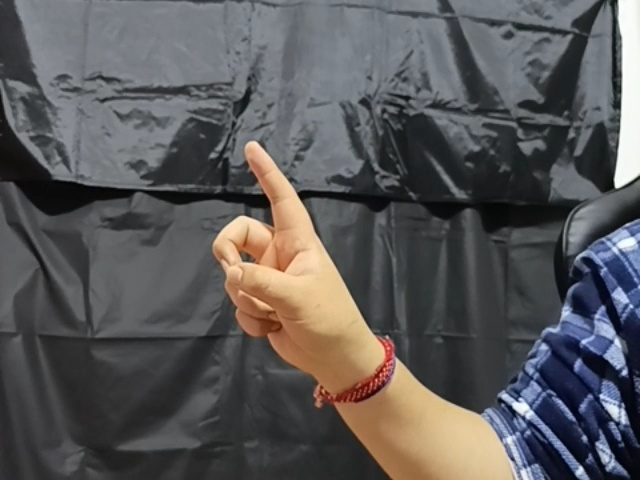D: (209, 135, 370, 373)
